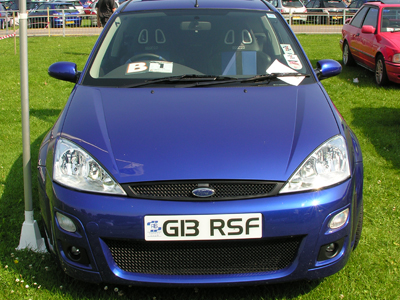licencePlate: (143, 214, 265, 242)
